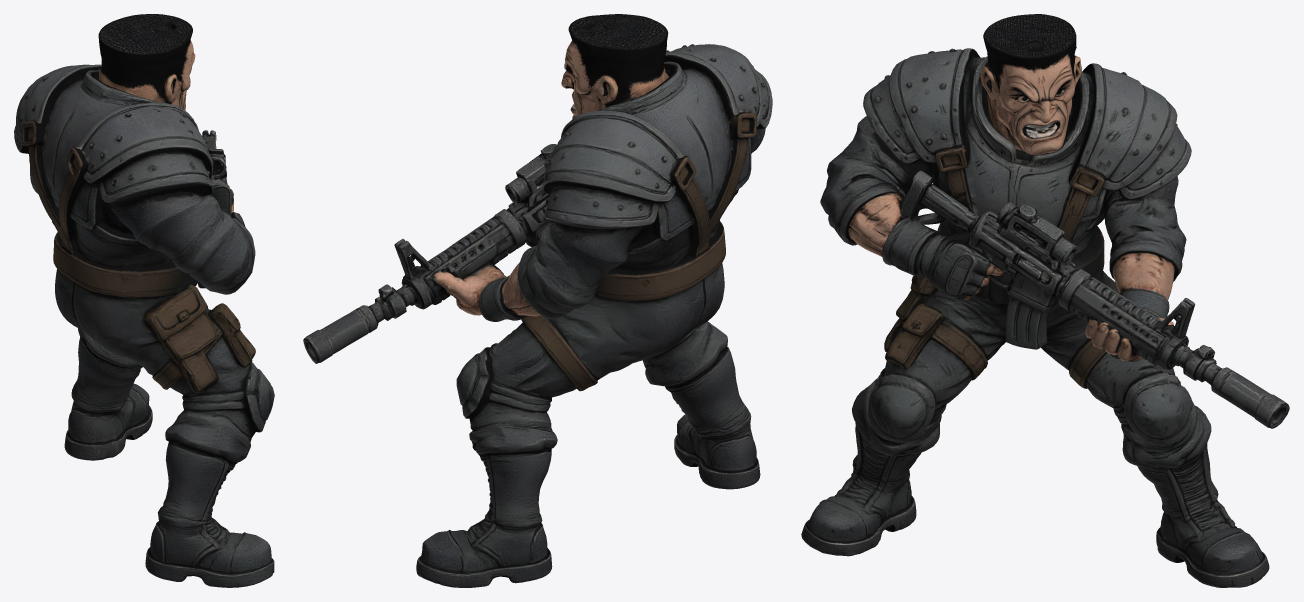
The model's file is henchman3d.glb.
3 views of the same model, side by side, from view 1: azimuth 30°, elevation 25°; view 2: azimuth 150°, elevation 25°; view 3: azimuth 270°, elevation 25° (orthographic). The views are drawn at different scales.
Parts seen in each view (by area): view 1: tripo_node_7487533b-8674-4fb8-bfd9-2f045ba623d9; view 2: tripo_node_7487533b-8674-4fb8-bfd9-2f045ba623d9; view 3: tripo_node_7487533b-8674-4fb8-bfd9-2f045ba623d9.
Boxes of the visible parts, x1,y1,x2,y2 form: tripo_node_7487533b-8674-4fb8-bfd9-2f045ba623d9: (14,14,274,587); tripo_node_7487533b-8674-4fb8-bfd9-2f045ba623d9: (303,14,772,587); tripo_node_7487533b-8674-4fb8-bfd9-2f045ba623d9: (801,14,1289,587).
Bounding box in the file's own units: 0.6458 × 1 × 0.8712.
Materials: 1 (1 with a texture image).
